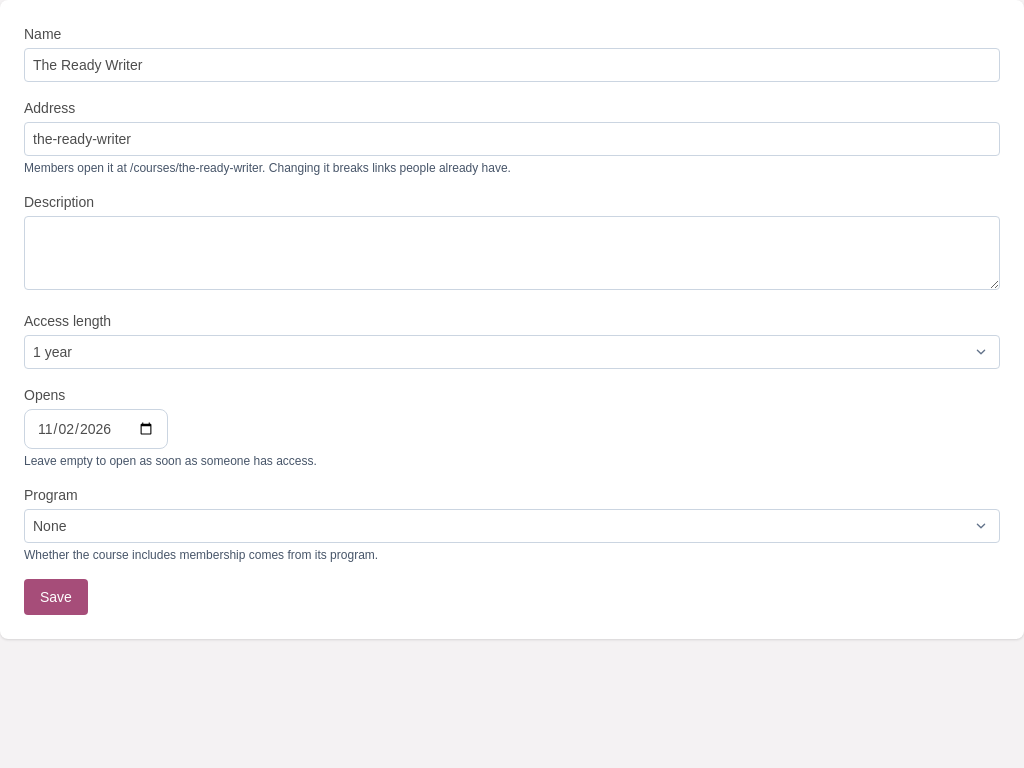
CourseDetailsForm, editing › shows why a save was refused, without saying Saved
Click the button "Save" at (56, 597), box [24, 579, 88, 615]
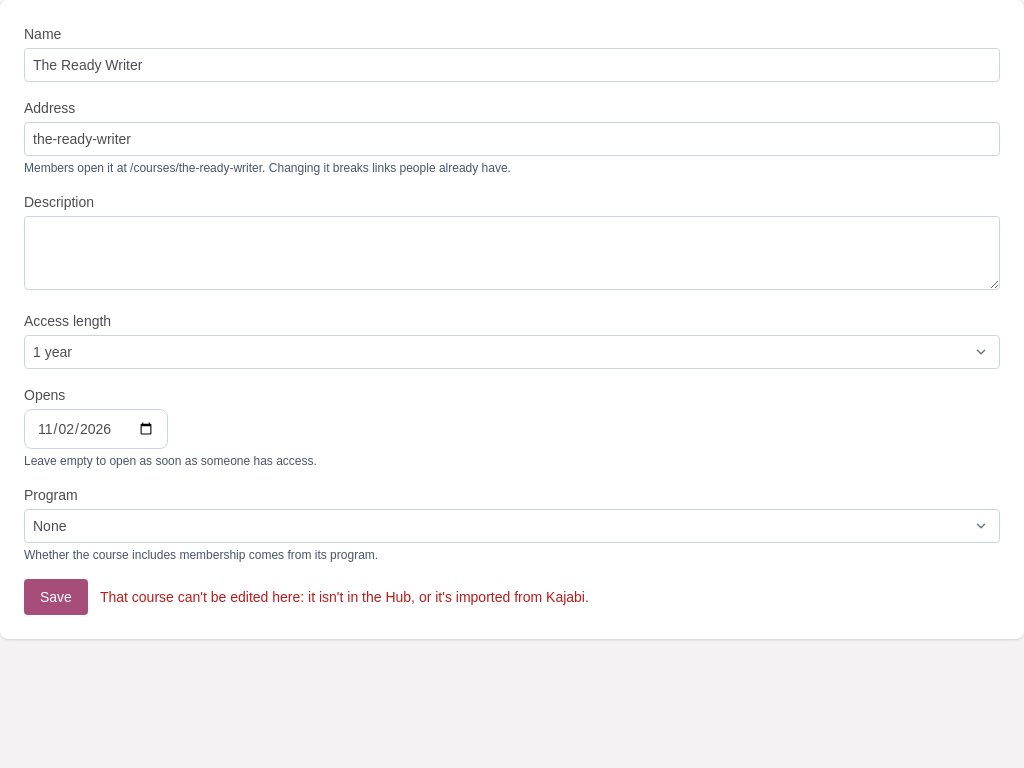
Expected: the message shows "imported from Kajabi", [100, 589, 589, 605]
